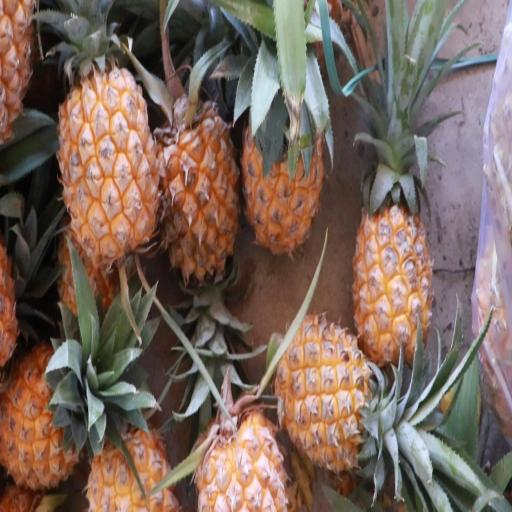Pineapple - v8 v1: (54, 35, 166, 268), (348, 141, 434, 383), (148, 80, 242, 284), (270, 310, 383, 474), (238, 60, 325, 264), (0, 335, 89, 493), (187, 400, 296, 512), (88, 415, 184, 512)
